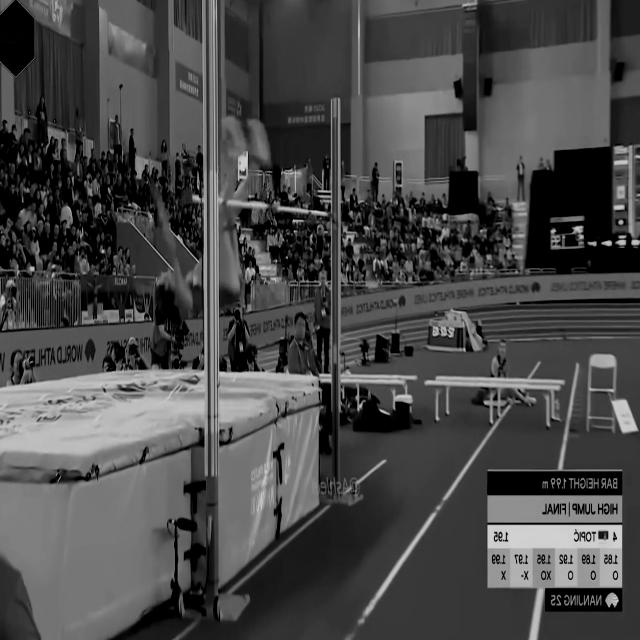land: (153, 112, 270, 314)
